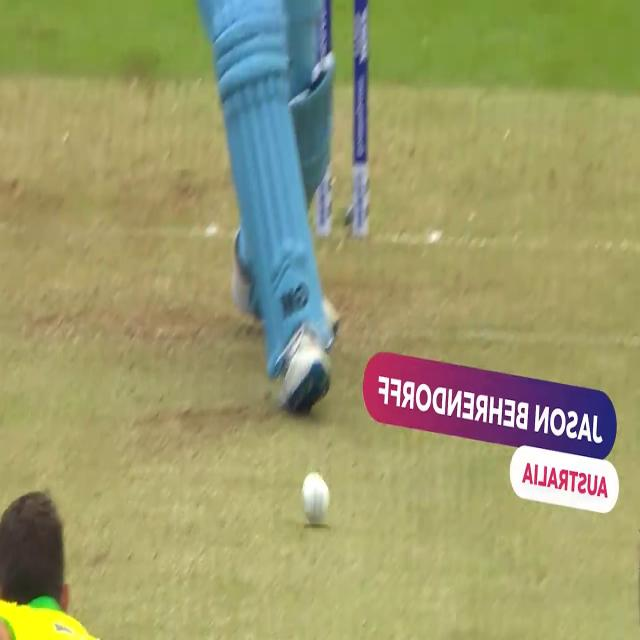ball: (295, 470, 332, 528)
